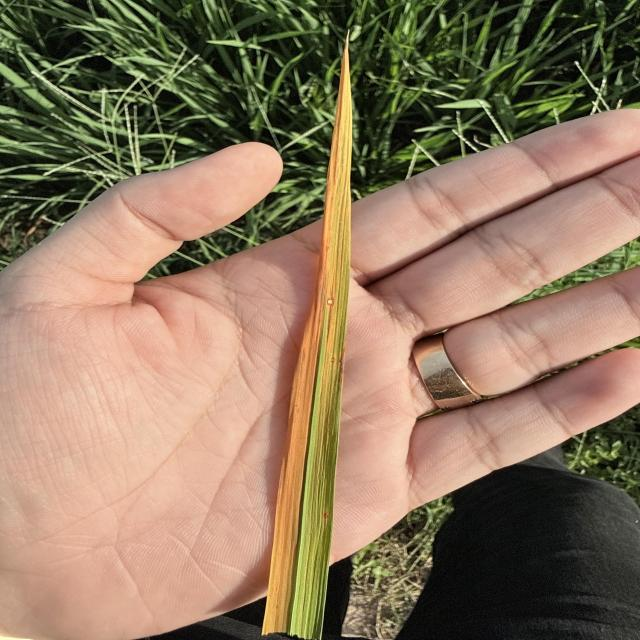Chay bia la: (259, 28, 354, 640)
